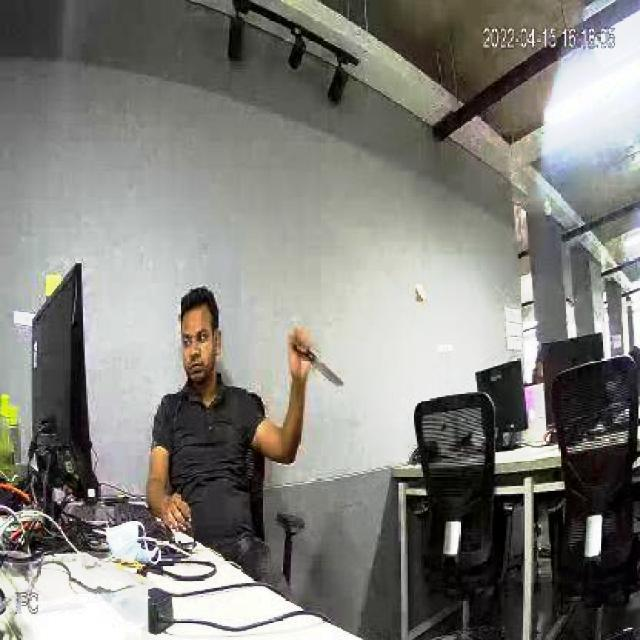Knife: (283, 328, 349, 395)
